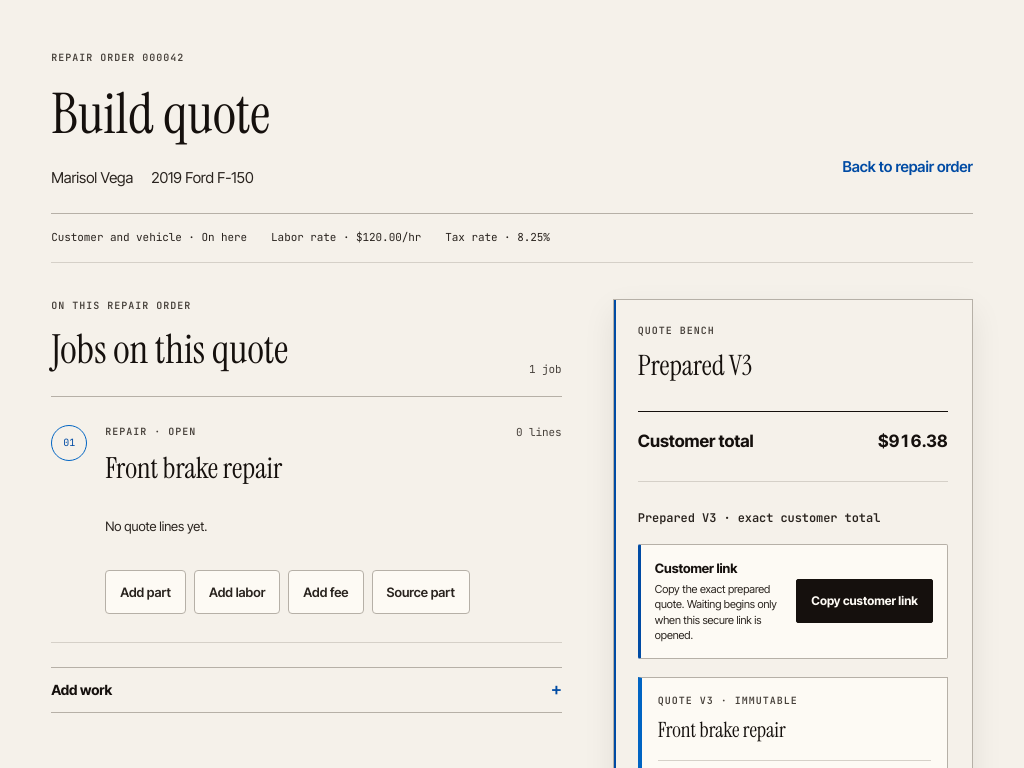
Test: Shop OS exact-version approval UI › preserves a mounted draft and offers recovery when the prepared version changes elsewhere
Click the button "Add part" at (146, 592), box x1=105 y1=570 x2=186 y2=614
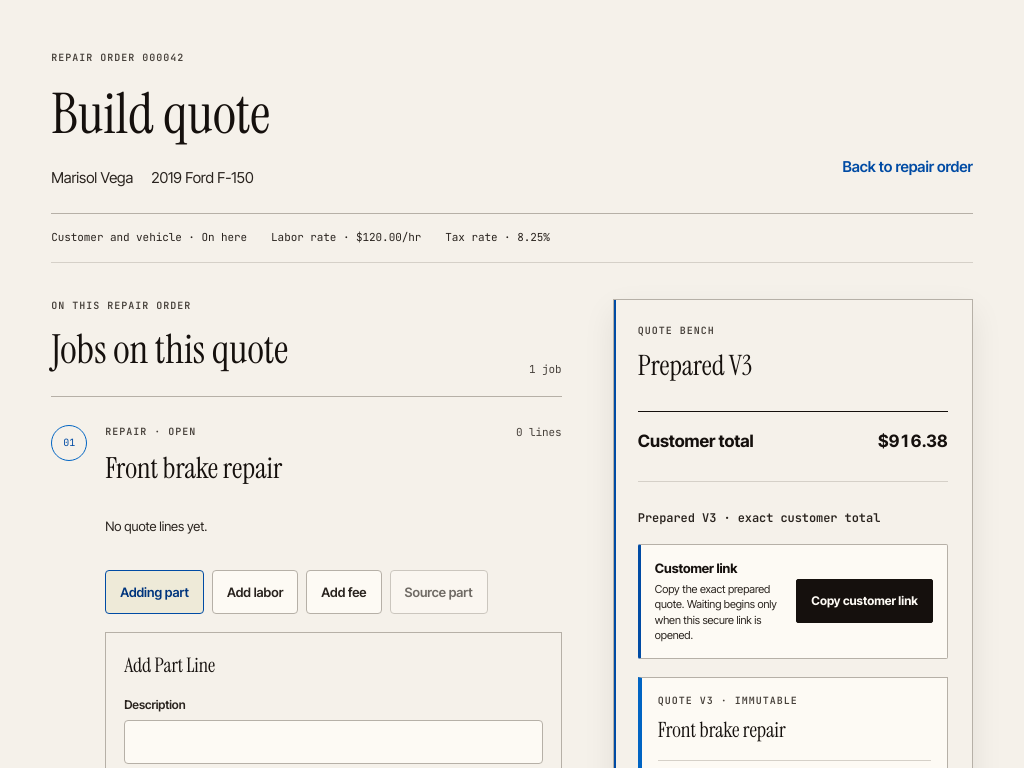
Type "Keep this exact local draft" into the field labelled "Description" at (333, 742), box x1=124 y1=720 x2=543 y2=764
Wait 20000 ms
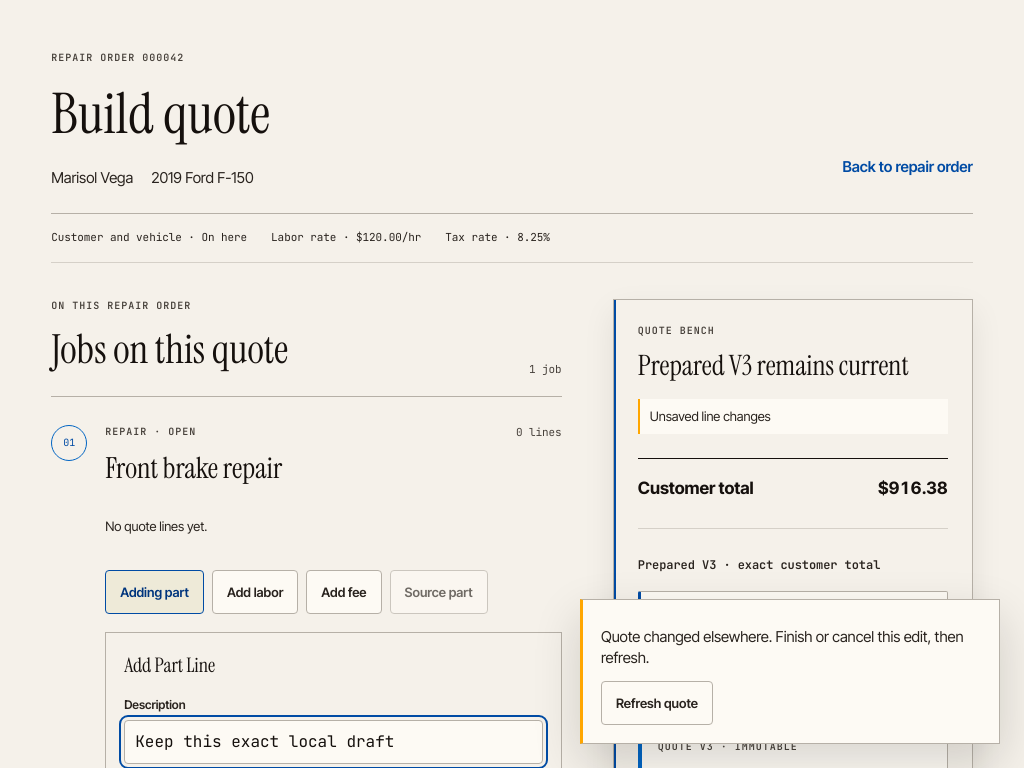
Expected: the text "Quote changed elsewhere. Finish or cancel this edit, then refresh." is shown, x1=601 y1=626 x2=981 y2=669
Expected: the button "Refresh quote" is shown, x1=601 y1=681 x2=713 y2=725
Expected: the heading "Prepared V3 remains current" is shown, x1=638 y1=346 x2=948 y2=387
